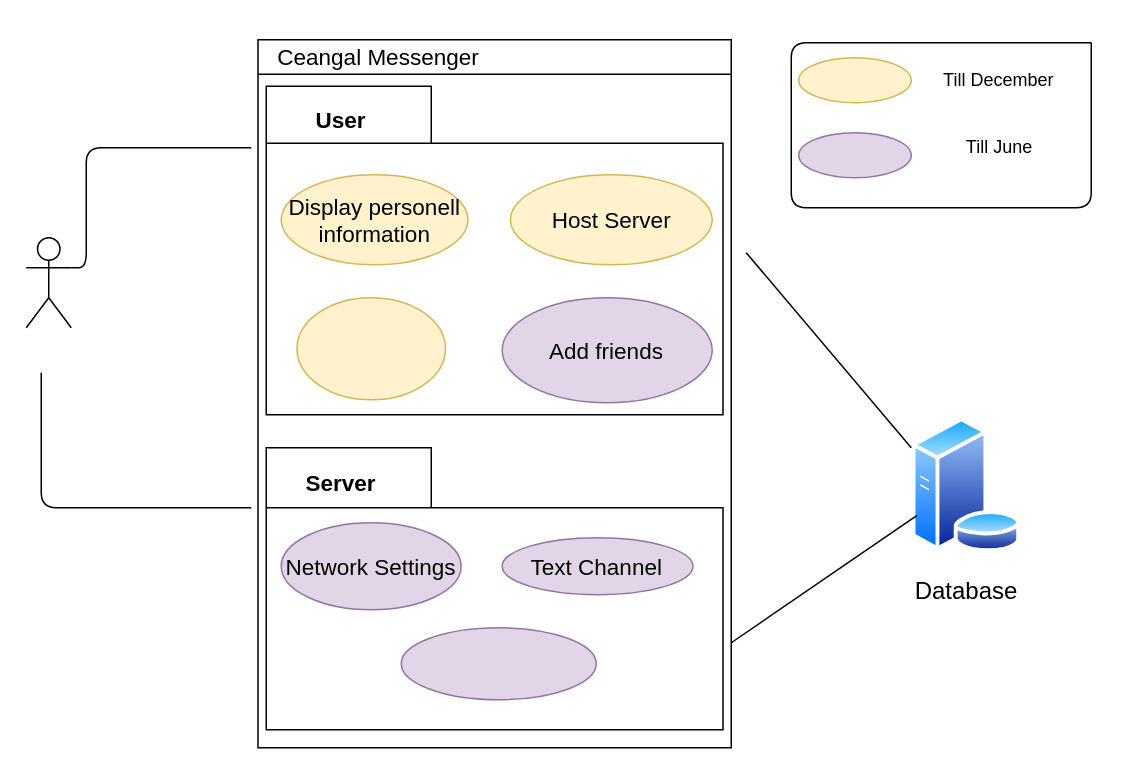
This 1121x774 diagram has some shape labels left out. The centre of each missing label's shape, as x and y in pixels:
"Actor" belongs at (x=48, y=282).
"Log In / Sign In" belongs at (x=371, y=348).
"Voice Channel" belongs at (x=498, y=663).
